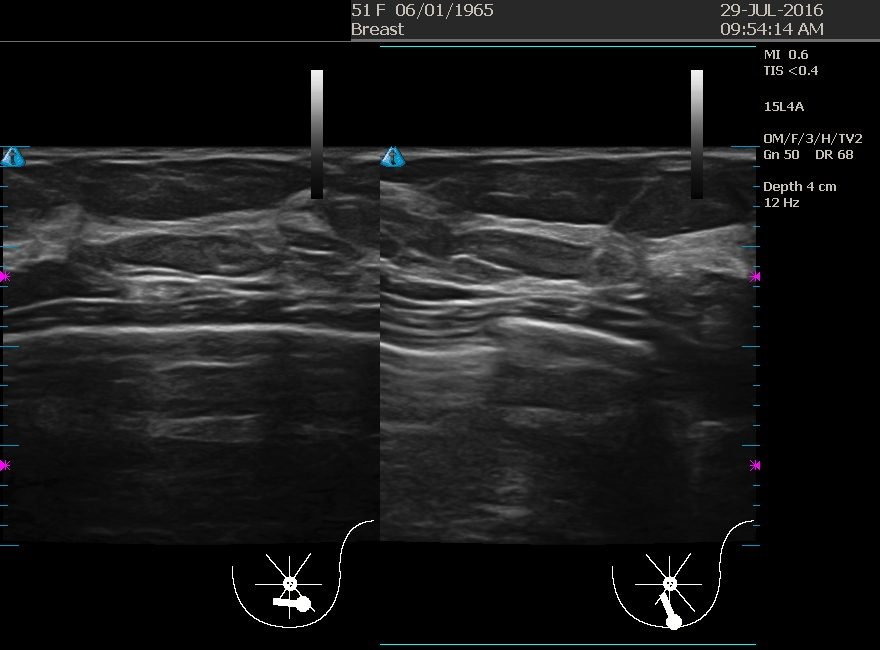Benign: (96, 168, 296, 368), (438, 179, 638, 379)
